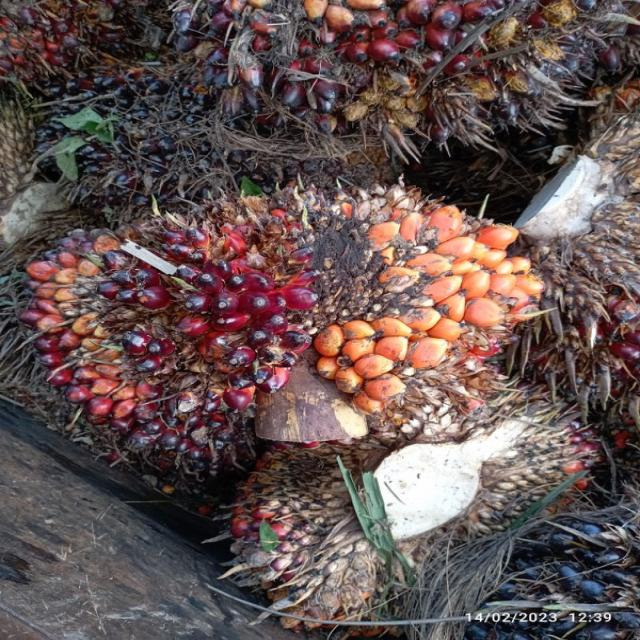fraksi 00: (11, 45, 303, 232)
fraksi 3: (23, 164, 539, 498)
